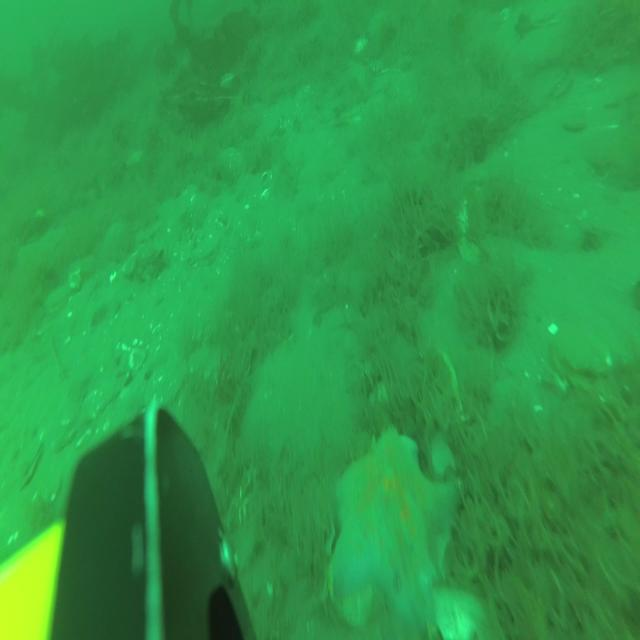scallop: (18, 440, 39, 484), (50, 423, 78, 453), (46, 285, 71, 315)
starfish: (332, 428, 454, 628)
